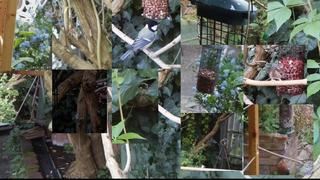great tit: (120, 20, 161, 61)
mouse: (257, 65, 287, 87)
